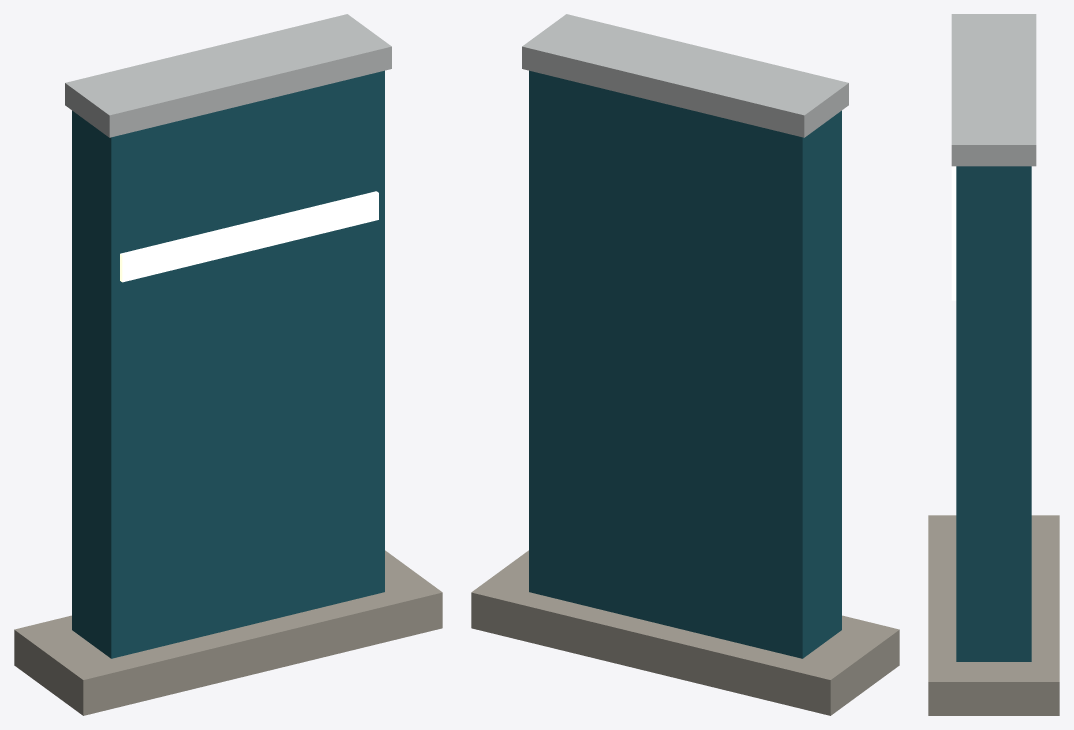
File: w-monolith.glb
3 renders of one model, left to right at view 1: azimuth 30°, elevation 25°; view 2: azimuth 150°, elevation 25°; view 3: azimuth 270°, elevation 25°, orthographic. The views are drawn at different scales.
Parts seen in each view (by area): view 1: w-monolith; view 2: w-monolith; view 3: w-monolith.
Boxes of the visible parts, x1,y1,x2,y2 form: w-monolith: (14,14,442,715); w-monolith: (471,14,899,715); w-monolith: (928,14,1059,715).
Size of the model in its own units: 0.8401 by 1.3 by 0.2799.
